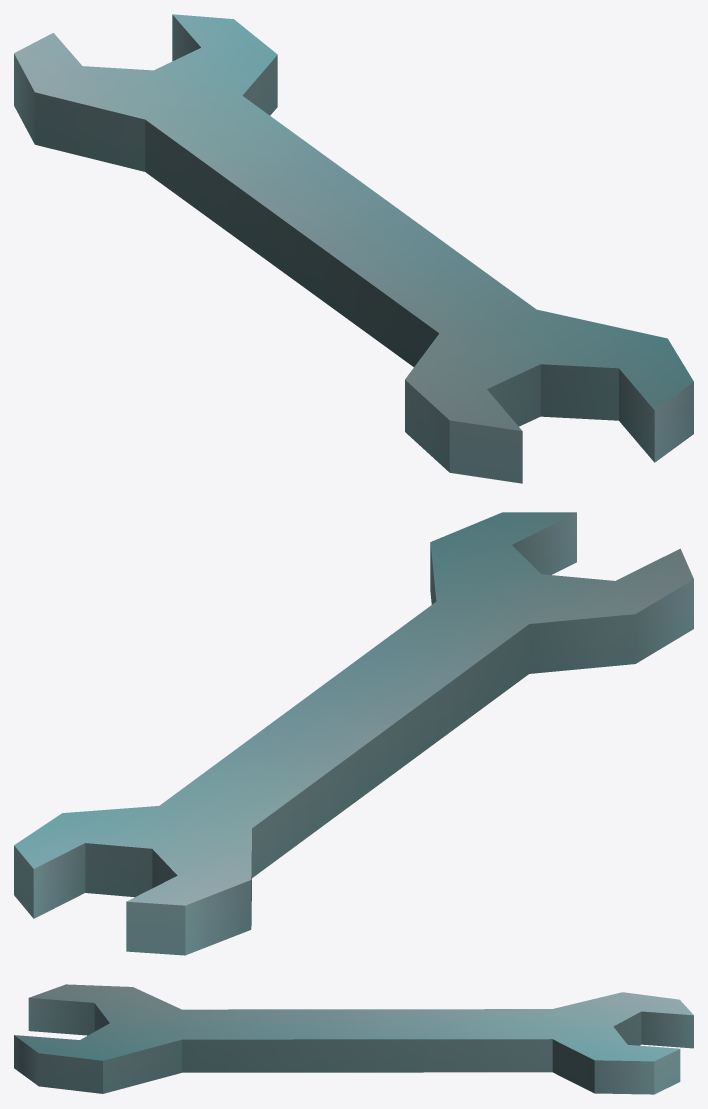
Rendered from wrench.fbx.
3 renders of one model, top to bottom at view 1: azimuth 30°, elevation 25°; view 2: azimuth 150°, elevation 25°; view 3: azimuth 270°, elevation 25°, orthographic. The views are drawn at different scales.
Visible parts, largest first — view 1: wrench; view 2: wrench; view 3: wrench.
Part boxes in pixels (x1,y1,x2,y2): wrench: (14, 14, 693, 483); wrench: (14, 512, 693, 955); wrench: (14, 984, 693, 1094).
Size of the model in its own units: 6.21 by 1.25 by 23.17.
